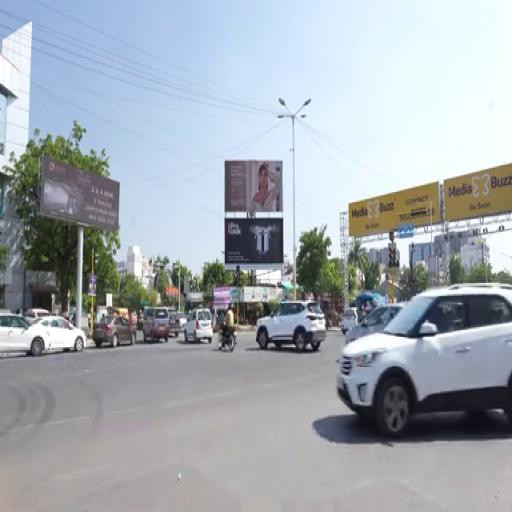Car: (337, 285, 511, 436), (256, 301, 326, 351), (0, 315, 85, 355), (345, 303, 403, 344), (0, 315, 50, 355), (29, 316, 86, 351), (93, 315, 135, 347), (184, 309, 213, 342), (143, 308, 170, 342), (341, 308, 358, 334), (24, 309, 50, 324), (170, 313, 180, 337), (176, 312, 187, 331)
